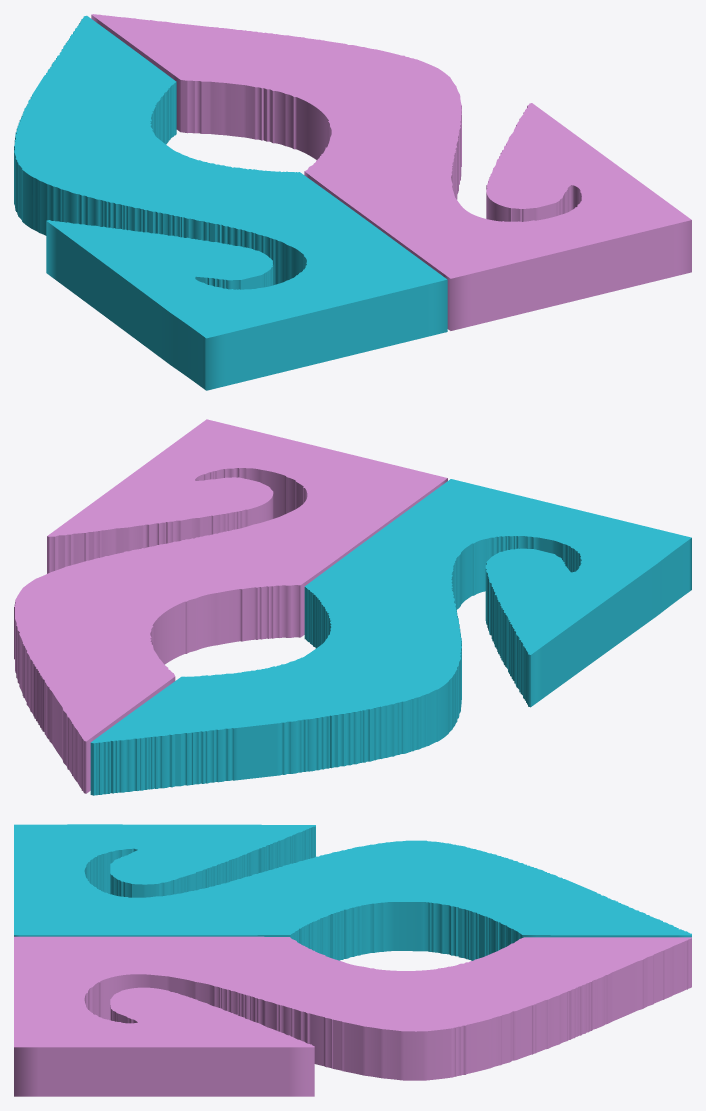
File: sklo.glb
3 views of the same model, one above another, from view 1: azimuth 30°, elevation 25°; view 2: azimuth 150°, elevation 25°; view 3: azimuth 270°, elevation 25° (orthographic). The views are drawn at different scales.
Parts seen in each view (by area): view 1: Curve, Curve.001; view 2: Curve, Curve.001; view 3: Curve.001, Curve.
Boxes of the visible parts, x1=… form: Curve: x1=14, y1=15, x2=447, y2=390; Curve.001: x1=91, y1=14, x2=691, y2=330; Curve: x1=90, y1=479, x2=691, y2=795; Curve.001: x1=14, y1=419, x2=447, y2=793; Curve.001: x1=14, y1=936, x2=691, y2=1096; Curve: x1=14, y1=824, x2=691, y2=960.
Bounding box in the file's own units: 3.79 × 0.39 × 4.87.
